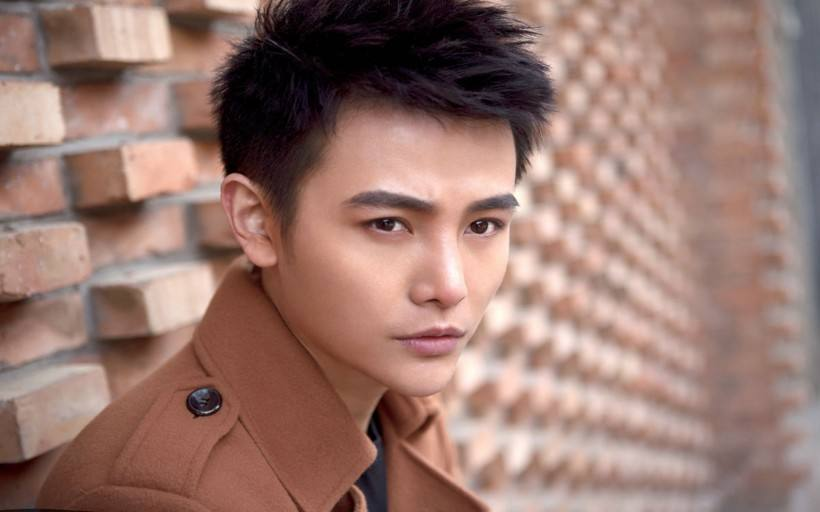person: (202, 3, 561, 448)
